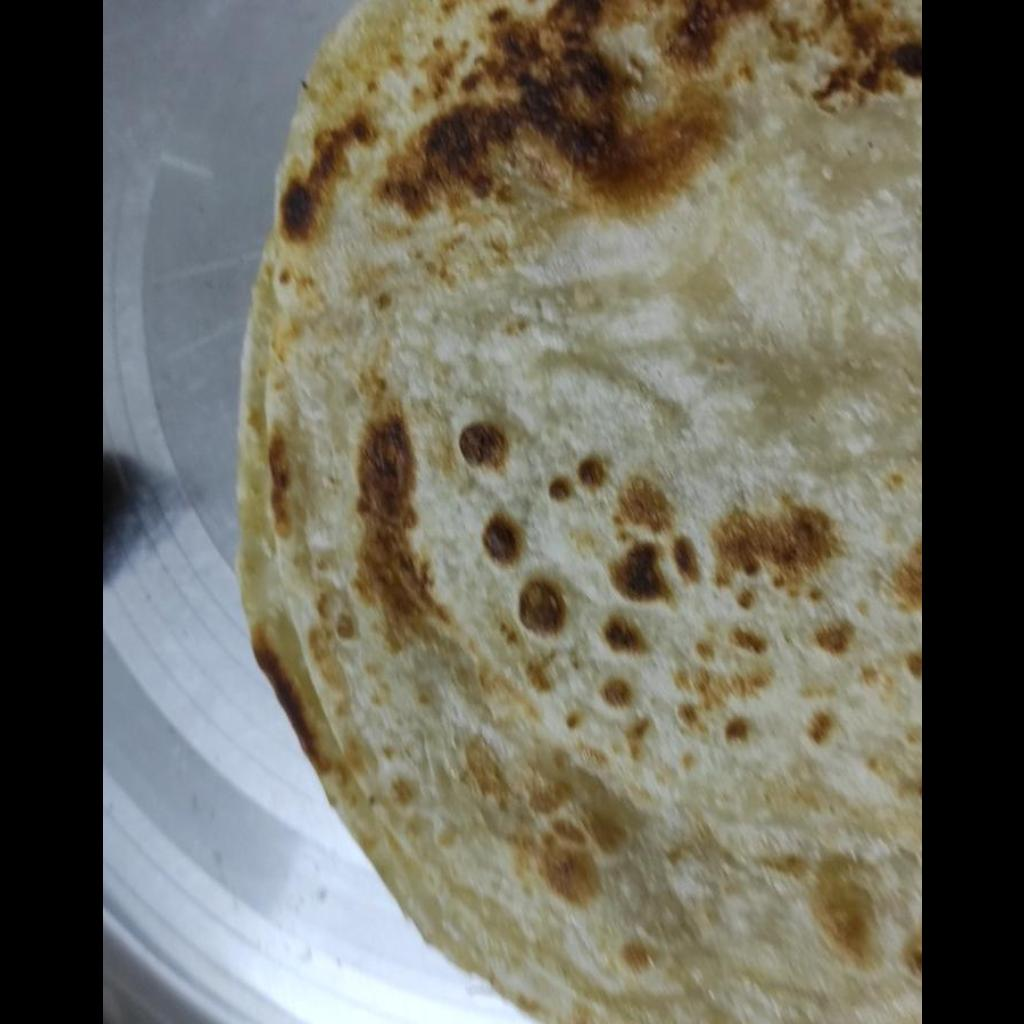ruti: (227, 0, 920, 1020)
